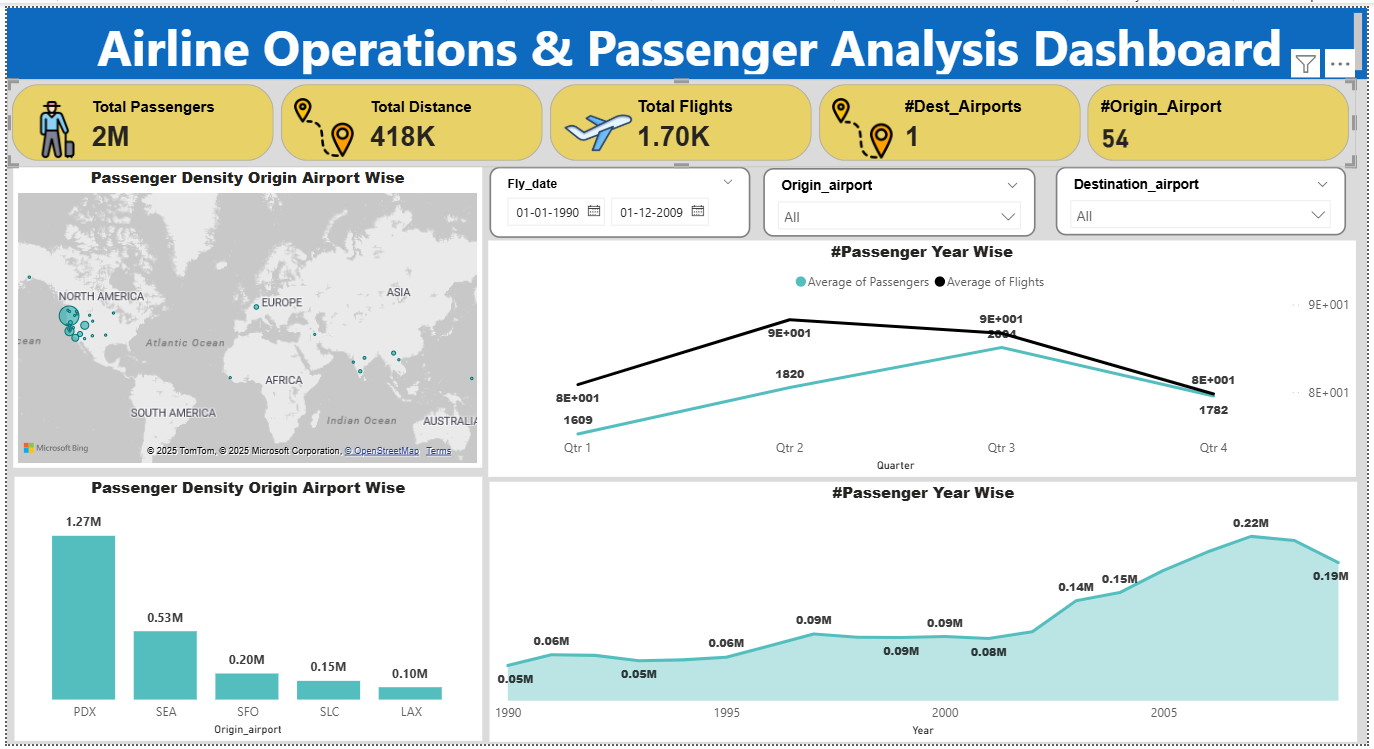

This screenshot's page, from the dashboard's own definition file:
{"tool":"powerbi","page":{"name":"Page 1","canvas":[1330,720],"ordinal":0},"visuals":[{"type":"textbox","box":[0,0,1330.4,69.7],"z":0},{"type":"cardVisual","fields":{"Data":["Sum(Airports2.Passengers)","Sum(Airports2.Distance)","CountNonNull(Airports2.Flights)","Count(Airports2.Destination_airport)","Count(Airports2.Origin_airport)"]},"box":[0,69.7,1319.4,85.6],"z":1000},{"type":"map","title":"Passenger Density Origin Airport Wise","fields":{"Size":["Sum(Airports2.Passengers)"],"Category":["Airports2.Origin_airport"]},"box":[6.1,155.3,458.6,294.7],"z":2000},{"type":"clusteredColumnChart","title":"Passenger Density Origin Airport Wise","fields":{"Category":["Airports2.Origin_airport"],"Y":["Sum(Airports2.Passengers)"]},"box":[7.3,458.6,457.3,258],"z":3000},{"type":"areaChart","title":"#Passenger Year Wise","fields":{"Category":["Airports2.Fly_date.Variation.Date Hierarchy.Year"],"Y":["Sum(Airports2.Passengers)"]},"box":[472,463.5,848.6,254.3],"z":4000},{"type":"lineChart","title":"#Passenger Year Wise","fields":{"Category":["Airports2.Fly_date.Variation.Date Hierarchy.Quarter"],"Y":["Avg(Airports2.Passengers)"],"Y2":["Avg(Airports2.Flights)"]},"box":[470.8,227.4,848.6,231.1],"z":5000},{"type":"slicer","title":"Passenger Density Origin Airport Wise","fields":{"Values":["Airports2.Origin_airport"]},"box":[739.8,156.5,266.6,67.3],"z":6000},{"type":"slicer","title":"Passenger Density Origin Airport Wise","fields":{"Values":["Airports2.Destination_airport"]},"box":[1026,155.3,283.7,67.3],"z":7000},{"type":"slicer","title":"Passenger Density Origin Airport Wise","fields":{"Values":["Airports2.Fly_date"]},"box":[472,155.3,255.6,69.7],"z":8000}]}

Visuals, with their boxes in screenshot pixels (x1, y1, x2, y2), scaled from the page's 1330x720 canvas onto the 1374x749 screenshot:
textbox: 0/0/1373/73
cardVisual - Sum(Airports2.Passengers) x Sum(Airports2.Distance): 0/73/1363/162
"Passenger Density Origin Airport Wise" map: 6/162/480/468
"Passenger Density Origin Airport Wise" clusteredColumnChart: 8/477/480/745
"#Passenger Year Wise" areaChart: 488/482/1364/747
"#Passenger Year Wise" lineChart: 486/237/1363/477
"Passenger Density Origin Airport Wise" slicer: 764/163/1040/233
"Passenger Density Origin Airport Wise" slicer: 1060/162/1353/232
"Passenger Density Origin Airport Wise" slicer: 488/162/752/234
